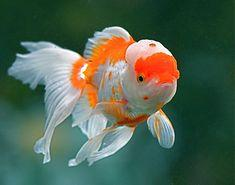goldfish: (31, 32, 193, 164)
